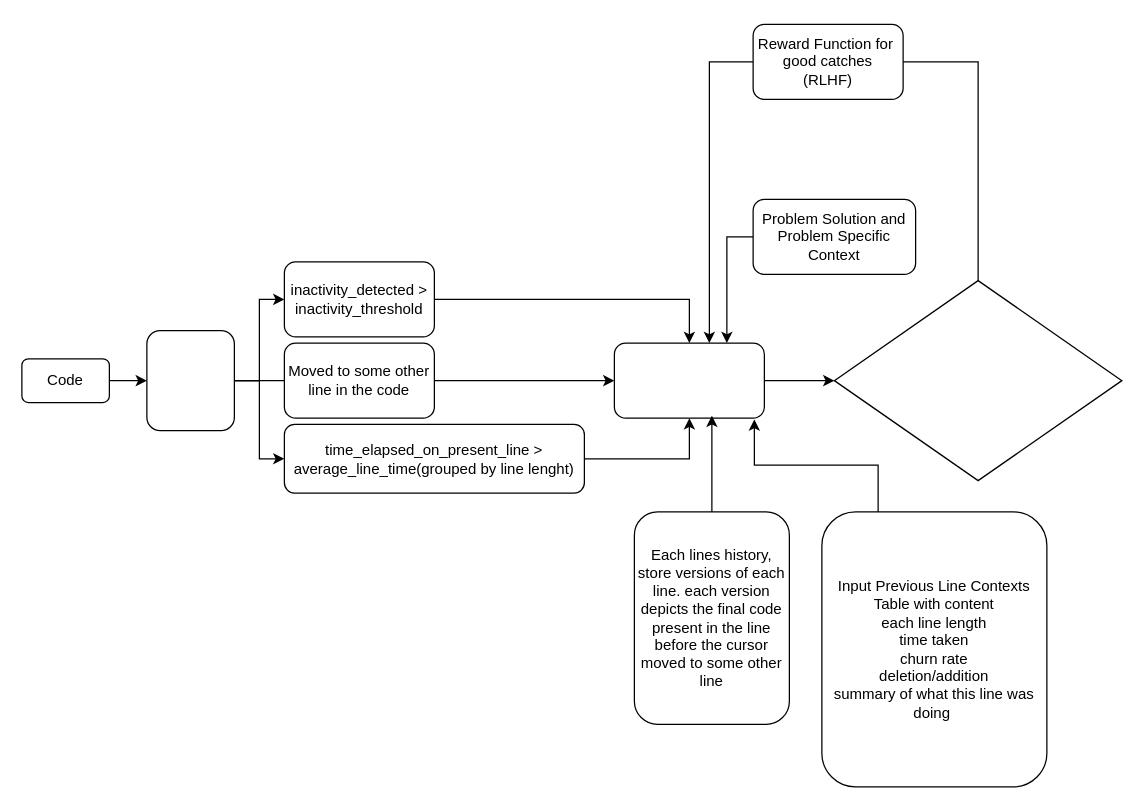
Image size: 1144x810. Some labels were removed from this diagram. Each missing label, with the centre of its shape:
"Cursor Tracking & Parameters Stream" belongs at point (190, 380).
"Decide whether to call LLM analysis" belongs at point (977, 380).
"Small Language Model" belongs at point (688, 380).
